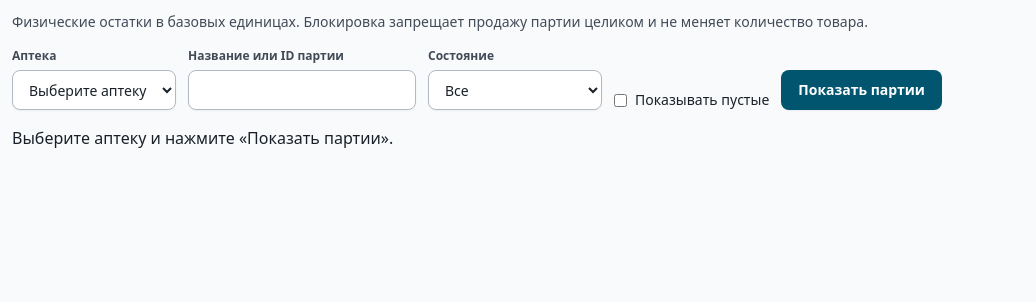
Test: physical lot workspace › requires branch, displays physical quantities and applies all filters
Click the button "Показать партии" at [862, 90], box [781,70,942,110]
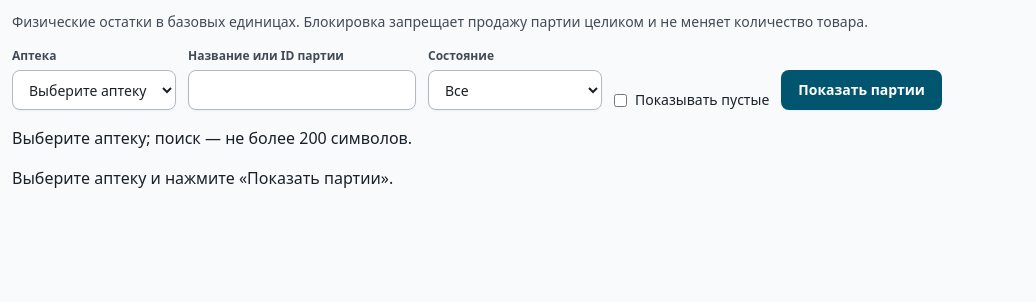
Now the message "Выберите аптеку; поиск — не более 200 символов." is shown, box [12,127,412,149]
Type "  Таблетки  " into the field labelled "Название или ID партии" at [302, 90], box [188,70,416,110]
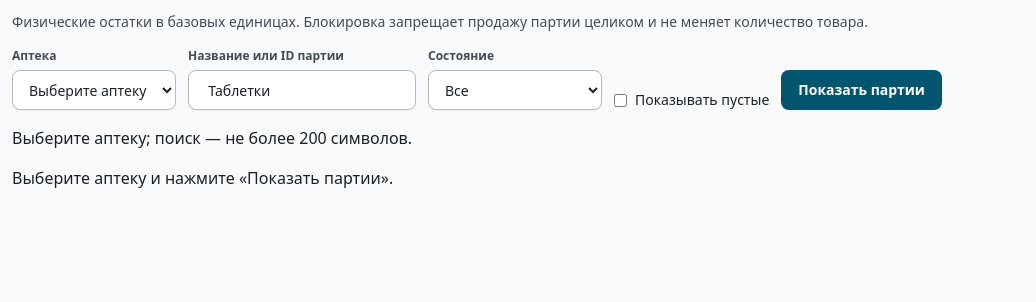
Select "Заблокированные" in the dropdown labelled "Состояние" at [515, 90], box [428,70,602,110]
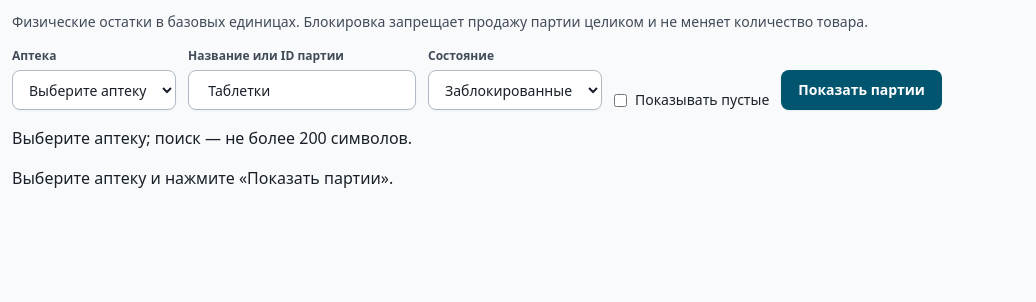
Click the checkbox labelled "Показывать пустые" at [620, 100], box [614,94,627,106]
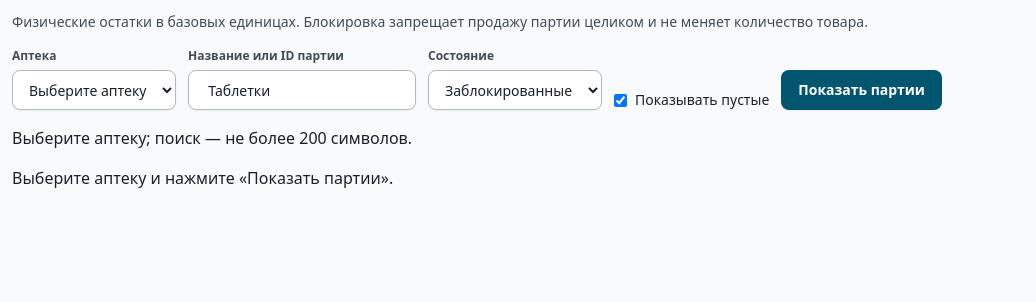
Select "Аптека 1" in the dropdown labelled "Аптека" at [94, 90], box [12,70,176,110]
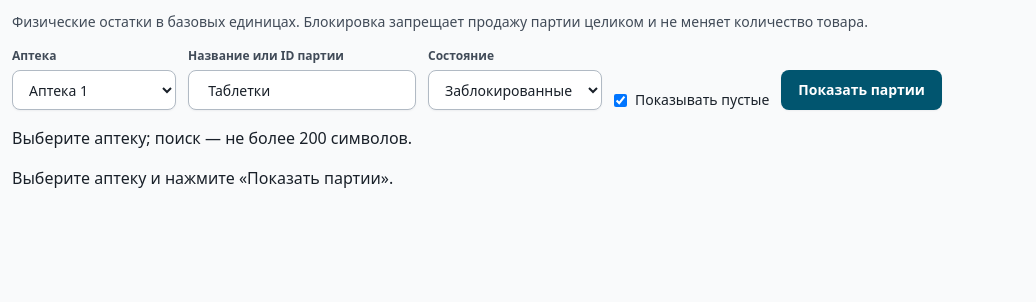
Click the button "Показать партии" at [862, 90], box [781,70,942,110]
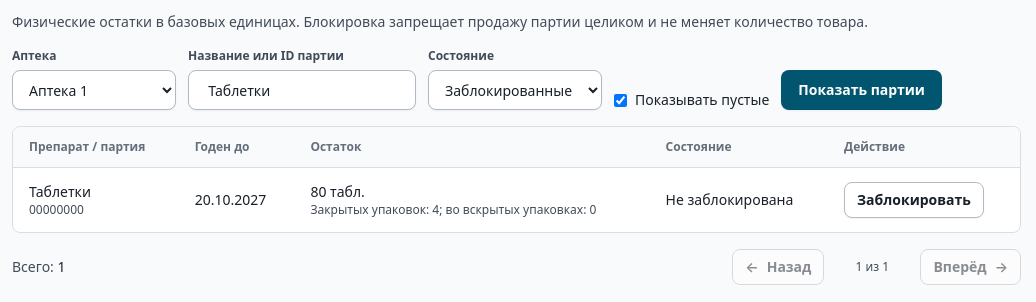
Now the text "Таблетки" is shown, box [29,182,91,201]
Now the text "80 табл." is shown, box [310,182,365,201]
